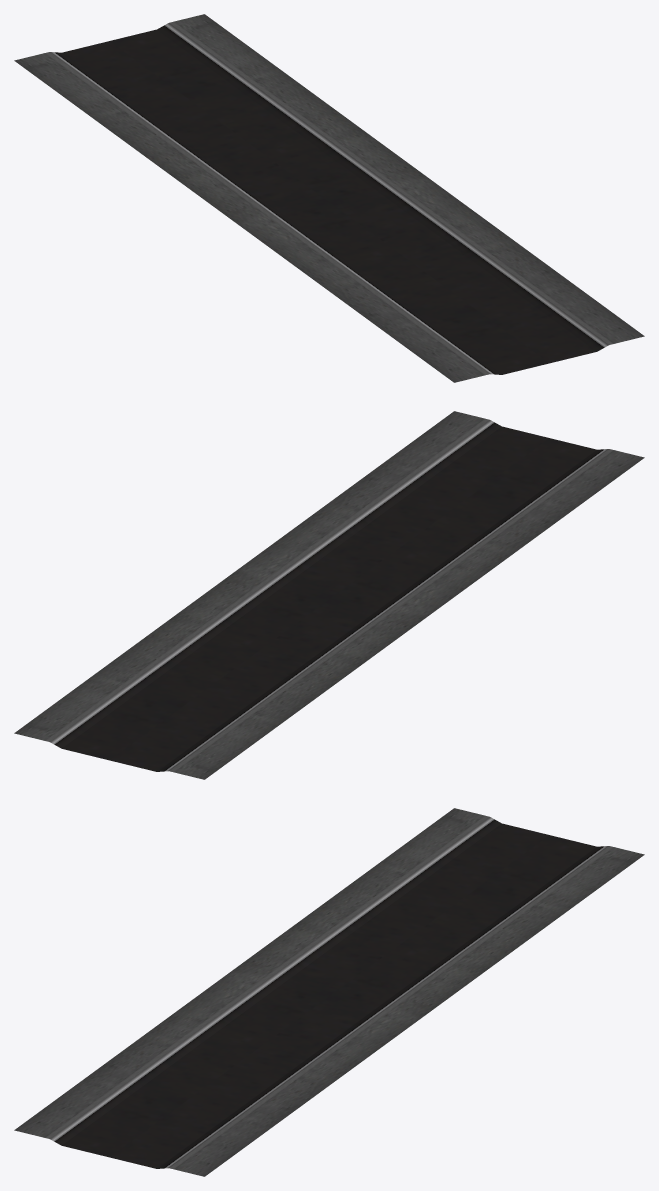
Rendered from RJs_Road 1+1 Basic Segment_Node_AW_lod.fbx.
The picture shows the model from 3 angles, top to bottom: view 1: azimuth 30°, elevation 25°; view 2: azimuth 150°, elevation 25°; view 3: azimuth 330°, elevation 25°; orthographic projection.
Visible parts, largest first — view 1: plane_lod; view 2: plane_lod; view 3: plane_lod.
Boxes of the visible parts, left/top/right/bottom form: plane_lod: left=14, top=14, right=644, bottom=382; plane_lod: left=14, top=411, right=644, bottom=779; plane_lod: left=14, top=808, right=644, bottom=1176.
Bounding box in the file's own units: 1600 × 30.1 × 6400.
